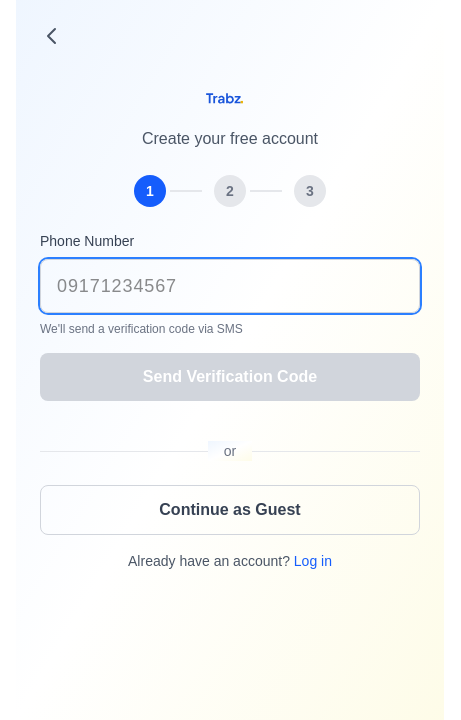
Test: Register flow › Phone step › rejects invalid phone numbers
In the field labelled "Phone Number": (230, 286) [40,259,420,313], type "1234"
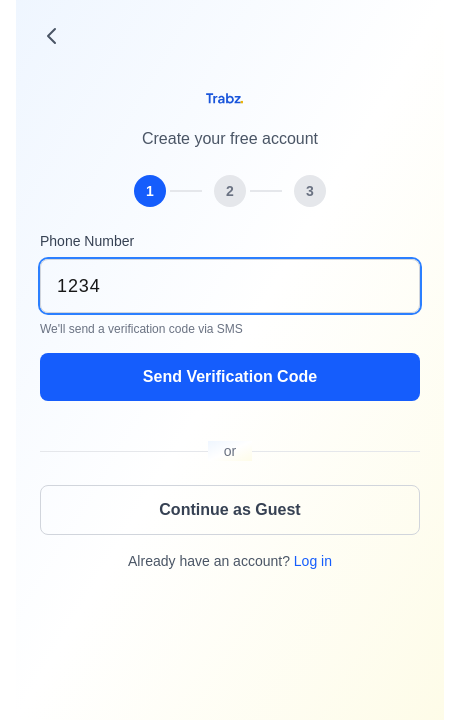
Click the button "Send Verification Code": (230, 377) [40,353,420,401]
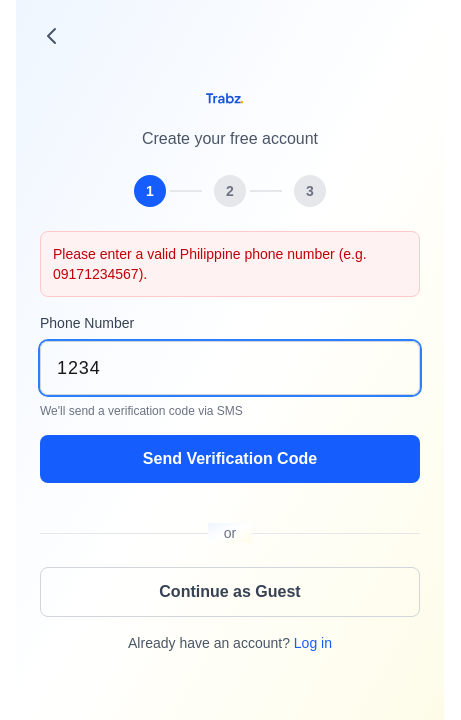
Expected: the text "Please enter a valid Philippine phone number (e.g. 09171234567)." is shown, [40,231,420,297]
